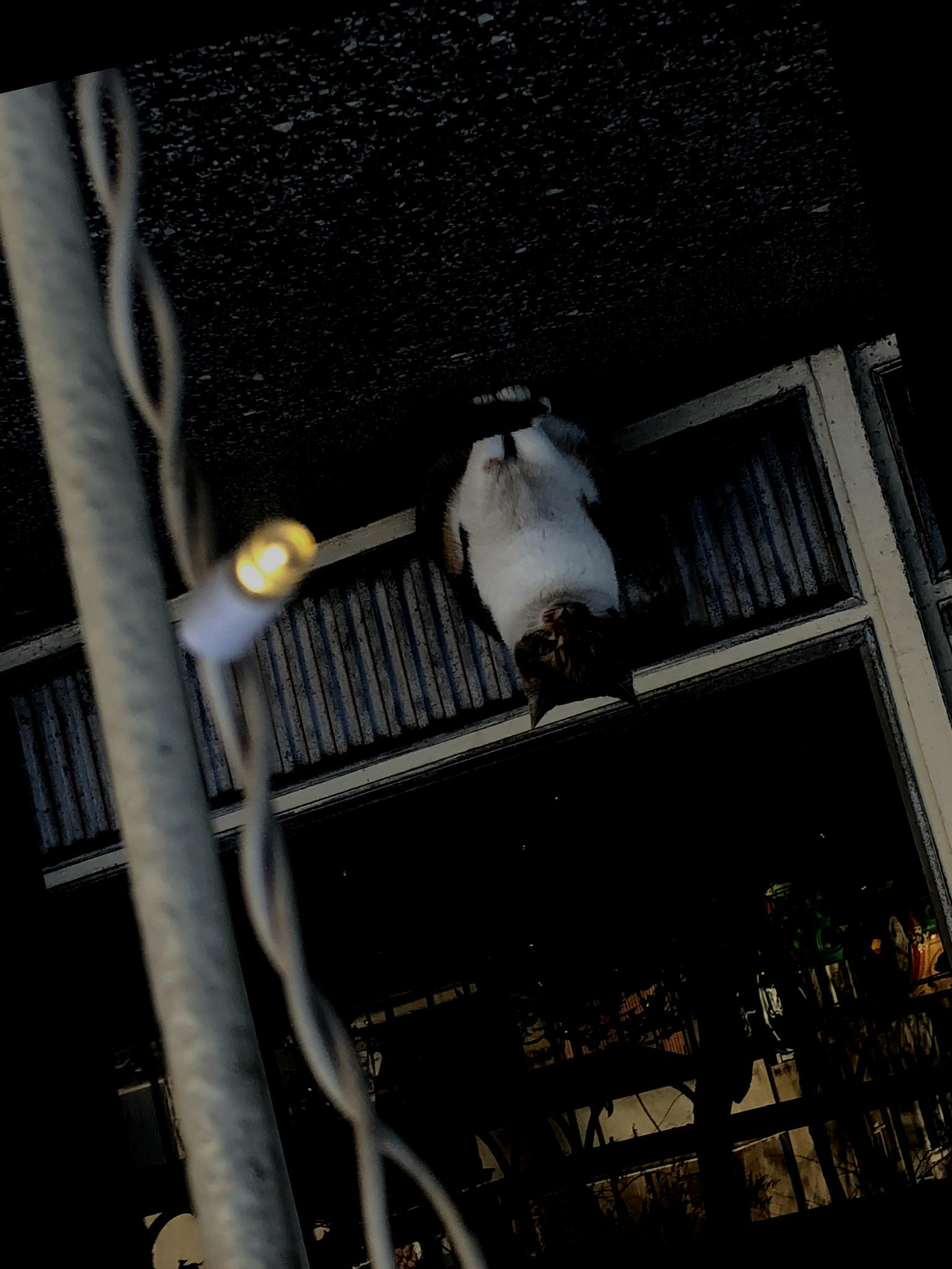macka: (381, 364, 668, 754)
